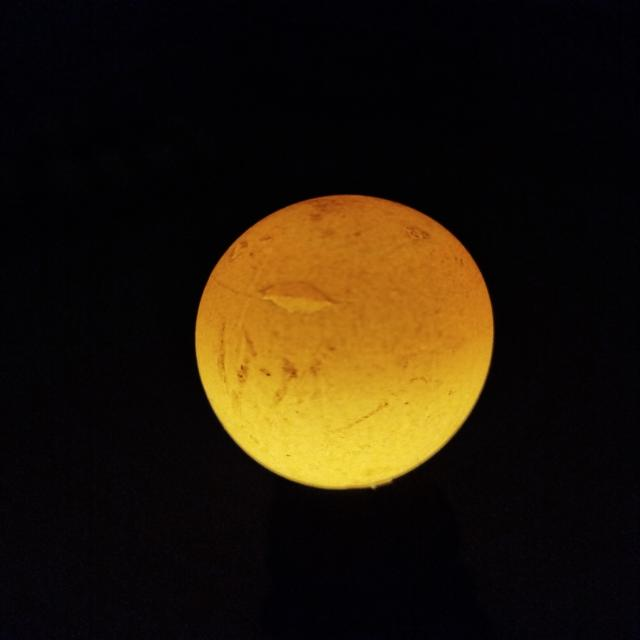Rachadura: (262, 282, 335, 314)
